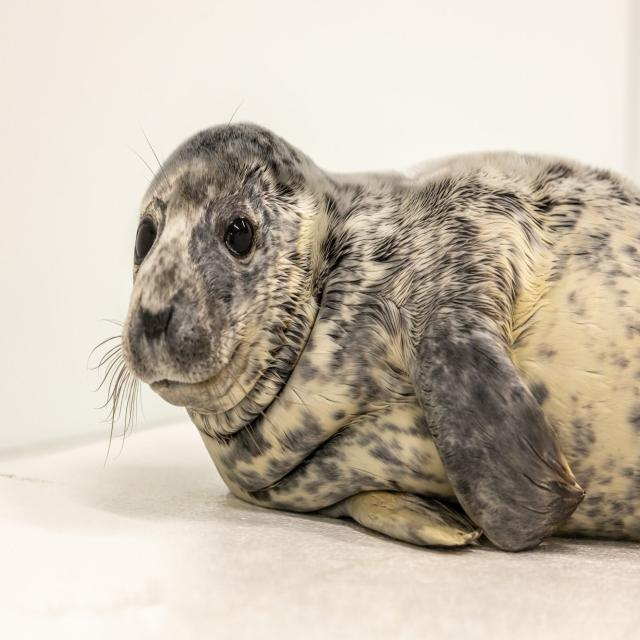seal: (108, 124, 640, 551)
